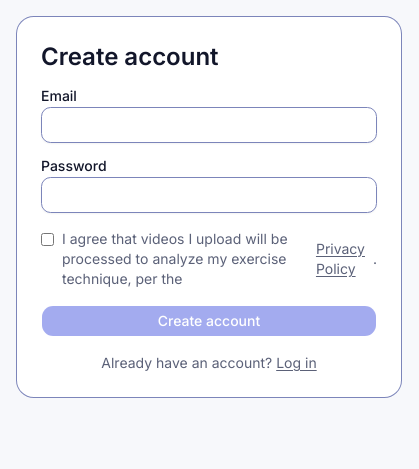
Test: RegisterPage › shows an error message when the email is already registered
Step 1. Type "me@example.com" into the field labelled "Email" → (209, 125), box [41,107,377,143]
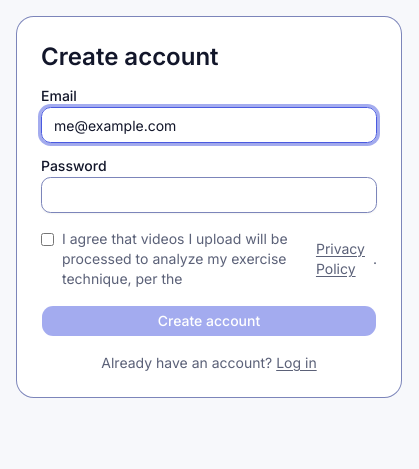
Step 2. Type "correct-horse-battery-staple" into the password field labelled "Password" → (209, 195), box [41,177,377,213]
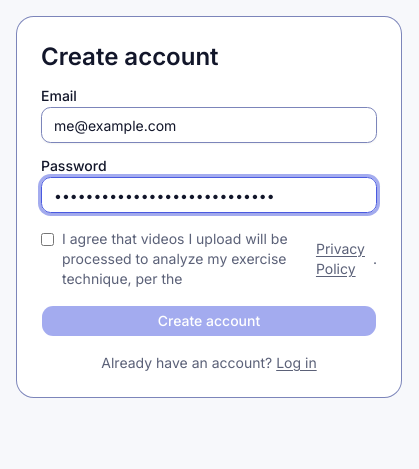
Step 3. Click the checkbox labelled "I agree" → click(48, 240), box [41,233,54,246]
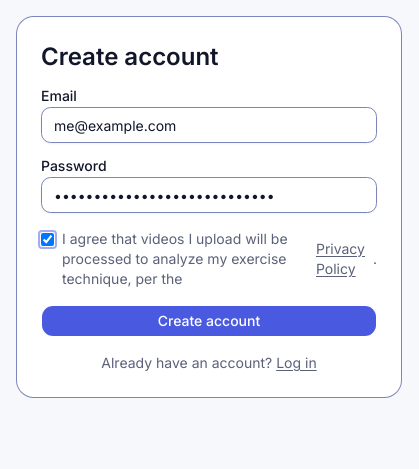
Step 4. Click the button "Create account" → click(209, 321), box [41,305,377,337]
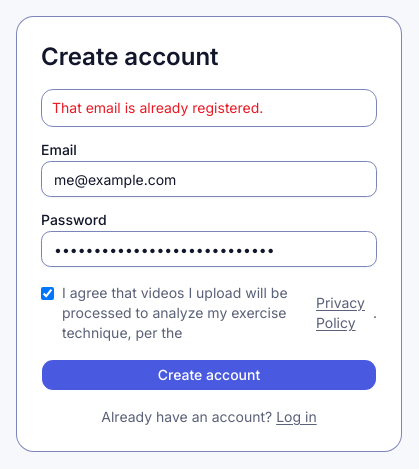
Now the text "That email is already registered." is shown, box [52,99,263,116]
